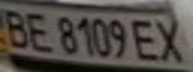0: (90, 15, 112, 58)
1: (72, 14, 93, 56)
8: (51, 12, 78, 55)
9: (109, 16, 133, 60)
B: (0, 4, 33, 50)
E: (130, 16, 166, 62), (21, 8, 54, 53)
X: (151, 16, 190, 64)
